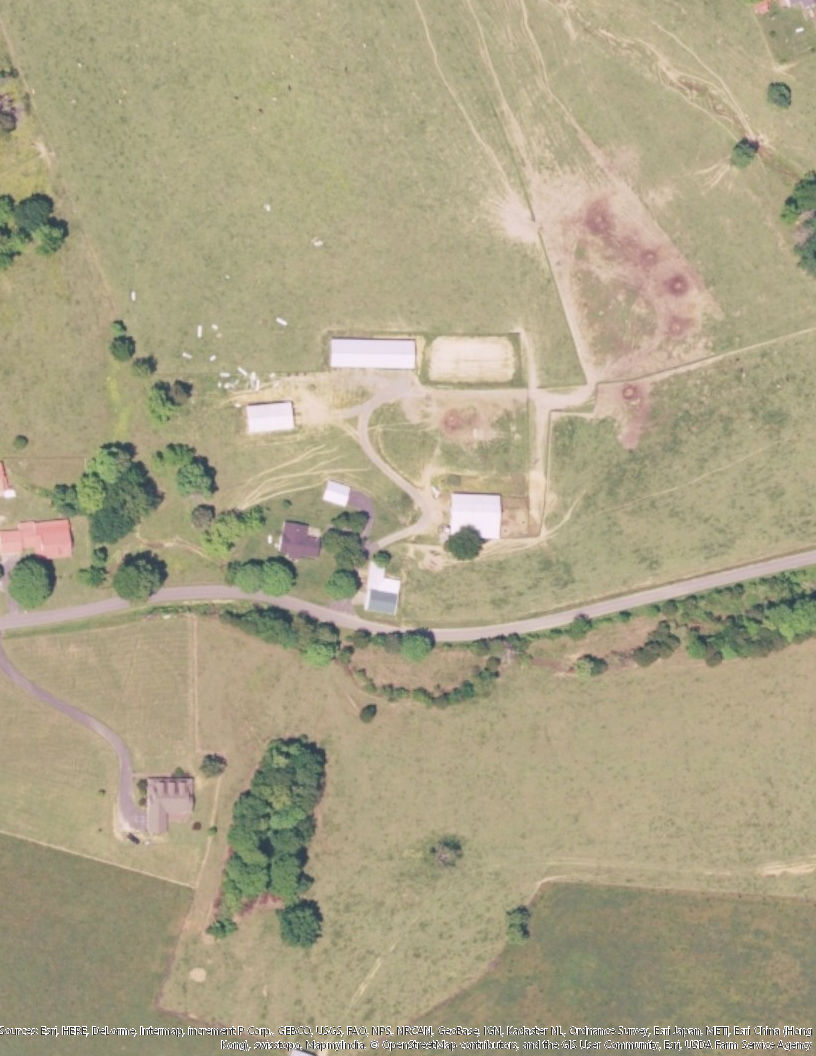cafo: (321, 331, 438, 374), (449, 486, 507, 548), (243, 397, 305, 431)
